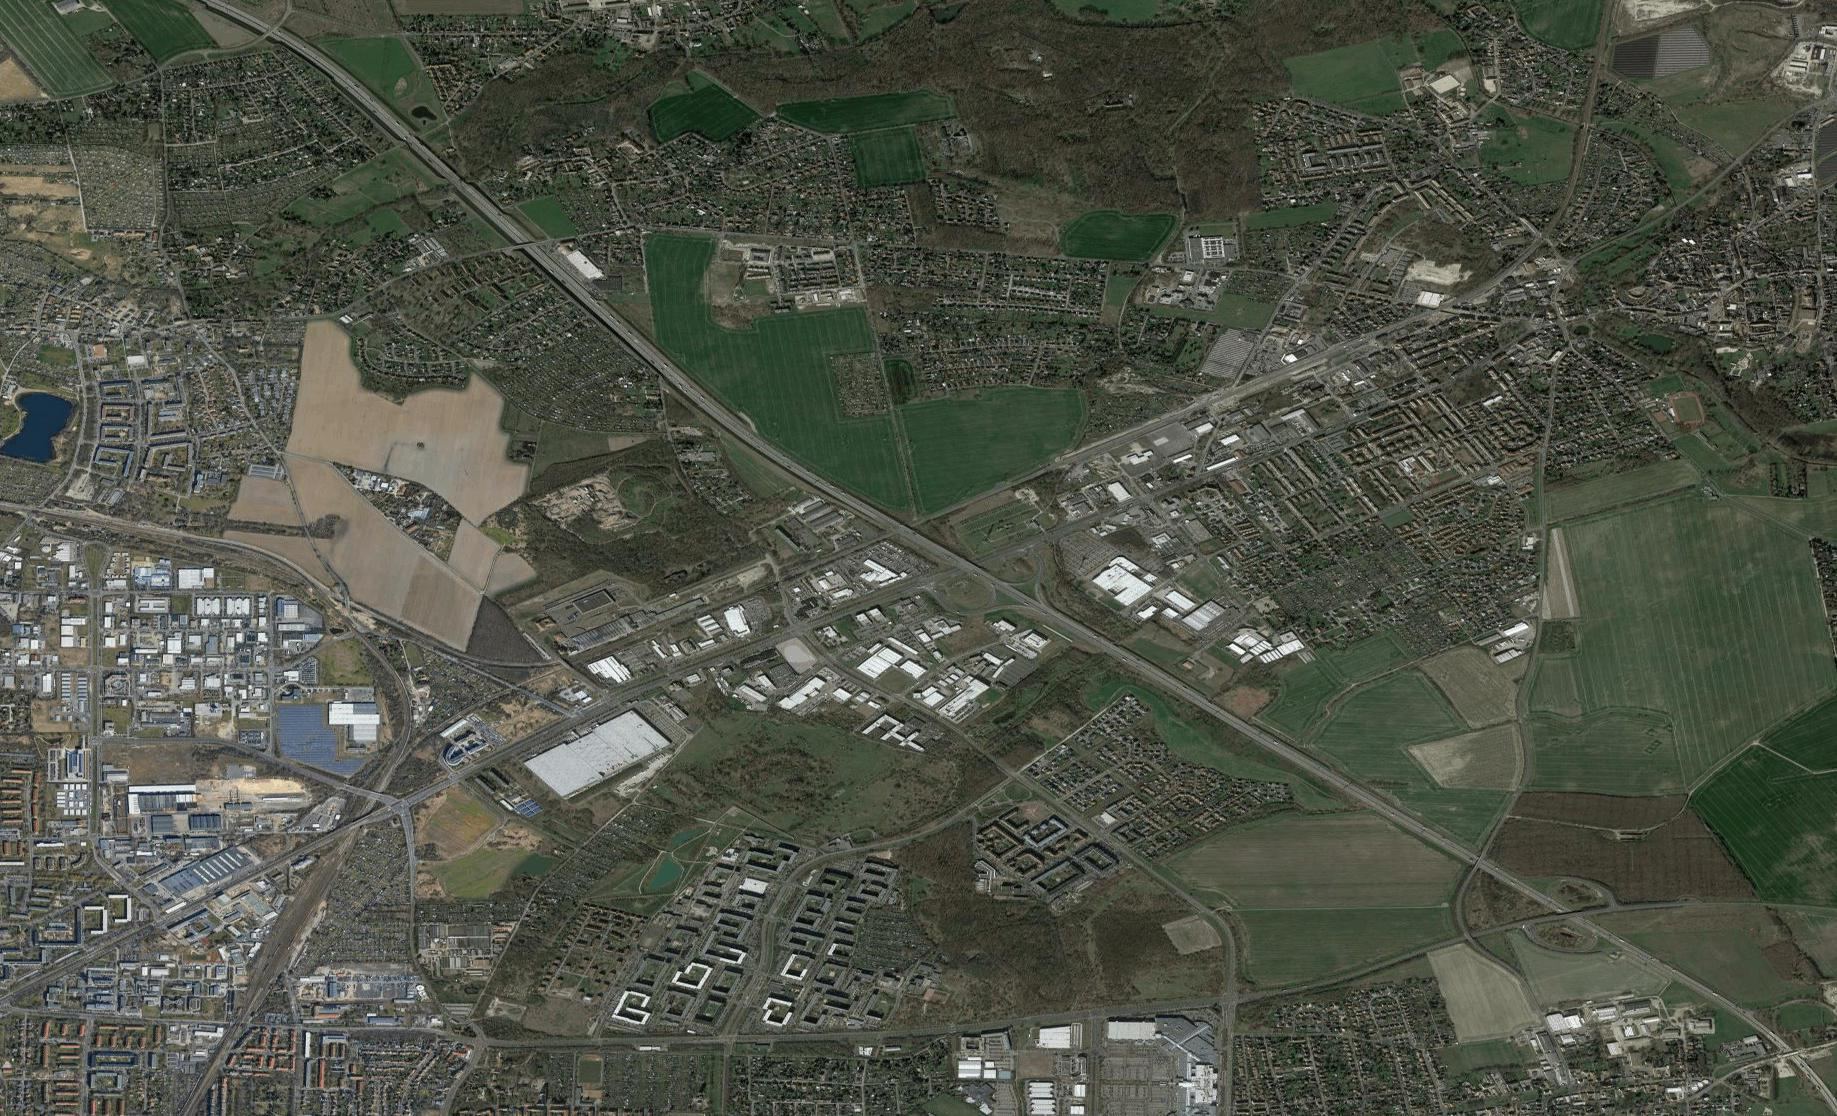industrial: (733, 572, 987, 738), (108, 567, 297, 733), (1092, 539, 1283, 668), (520, 699, 673, 824)
motorway: (1670, 970, 1837, 1111), (590, 296, 733, 428), (451, 180, 590, 302), (1359, 793, 1514, 887), (884, 513, 1039, 605), (730, 426, 883, 518), (1042, 605, 1195, 696), (1199, 698, 1353, 789), (1518, 885, 1672, 977), (339, 76, 447, 182), (209, 1, 354, 77)
